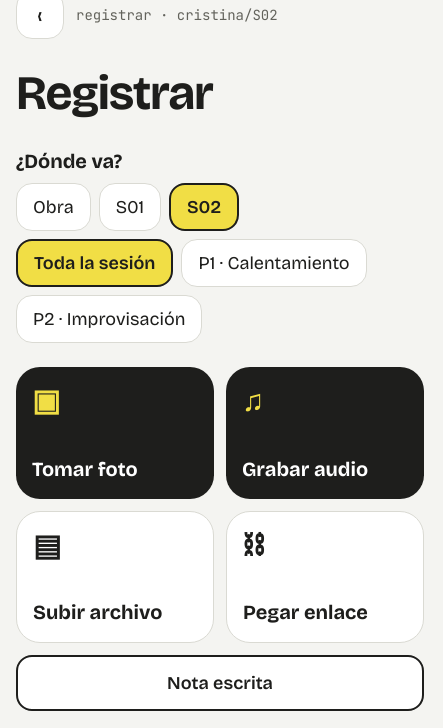
Scenario: HU-13 · Registrar › says when the microphone is not allowed
This screenshot has width=443, height=728.
Click the button "♫ Grabar audio": (325, 433) x1=226 y1=367 x2=424 y2=499
(page scrolled)
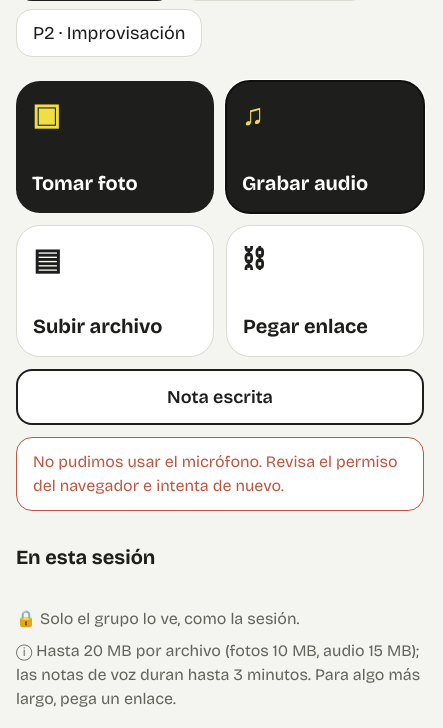
Check: the message shows "micrófono", box x1=33 y1=452 x2=398 y2=495
